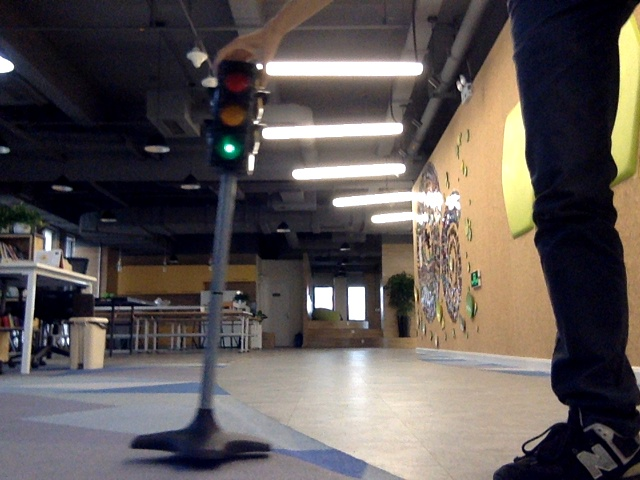green: (217, 65, 248, 164)
